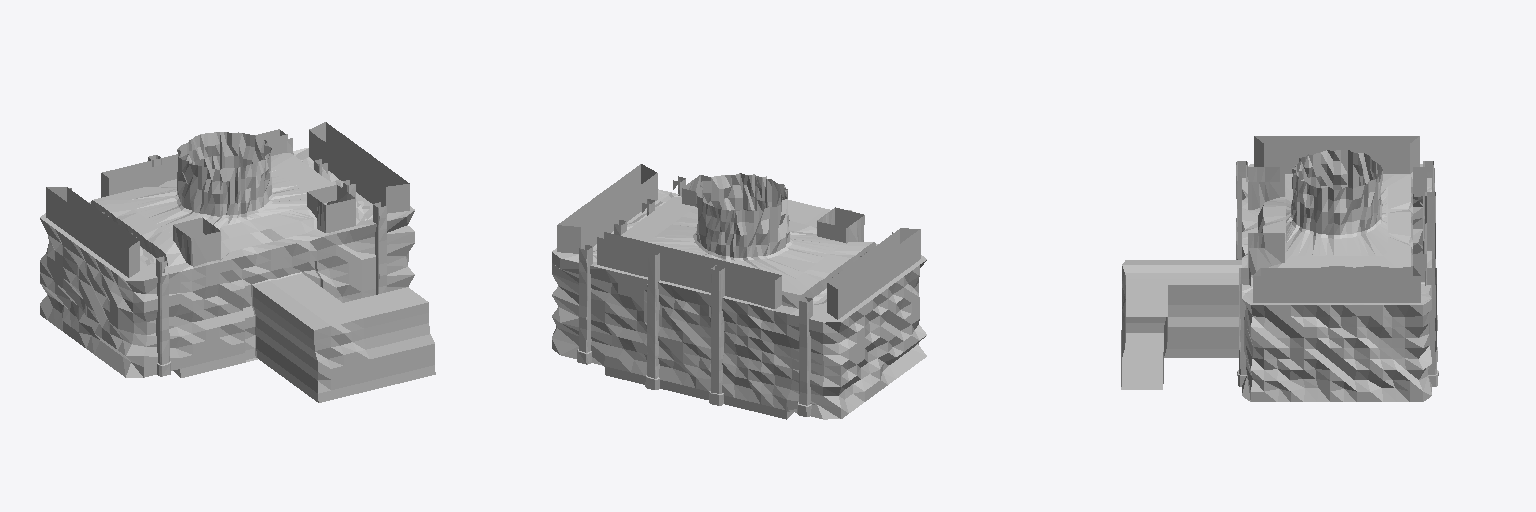
File: room2_caster.obj
The picture shows the model from 3 angles: view 1: azimuth 30°, elevation 25°; view 2: azimuth 150°, elevation 25°; view 3: azimuth 270°, elevation 25°; orthographic projection.
Parts seen in each view (by area): view 1: room.001_Plane.001, pillars.001_Cube.007; view 2: room.001_Plane.001, pillars.001_Cube.007; view 3: room.001_Plane.001, pillars.001_Cube.007.
Part boxes in pixels (left/top/right/bottom): room.001_Plane.001: left=40, top=122, right=435, bottom=402; pillars.001_Cube.007: left=69, top=134, right=386, bottom=376; room.001_Plane.001: left=552, top=164, right=926, bottom=419; pillars.001_Cube.007: left=577, top=176, right=892, bottom=416; room.001_Plane.001: left=1121, top=136, right=1431, bottom=401; pillars.001_Cube.007: left=1236, top=161, right=1438, bottom=386.
Size of the model in its own units: 11.78 by 6.61 by 11.18.